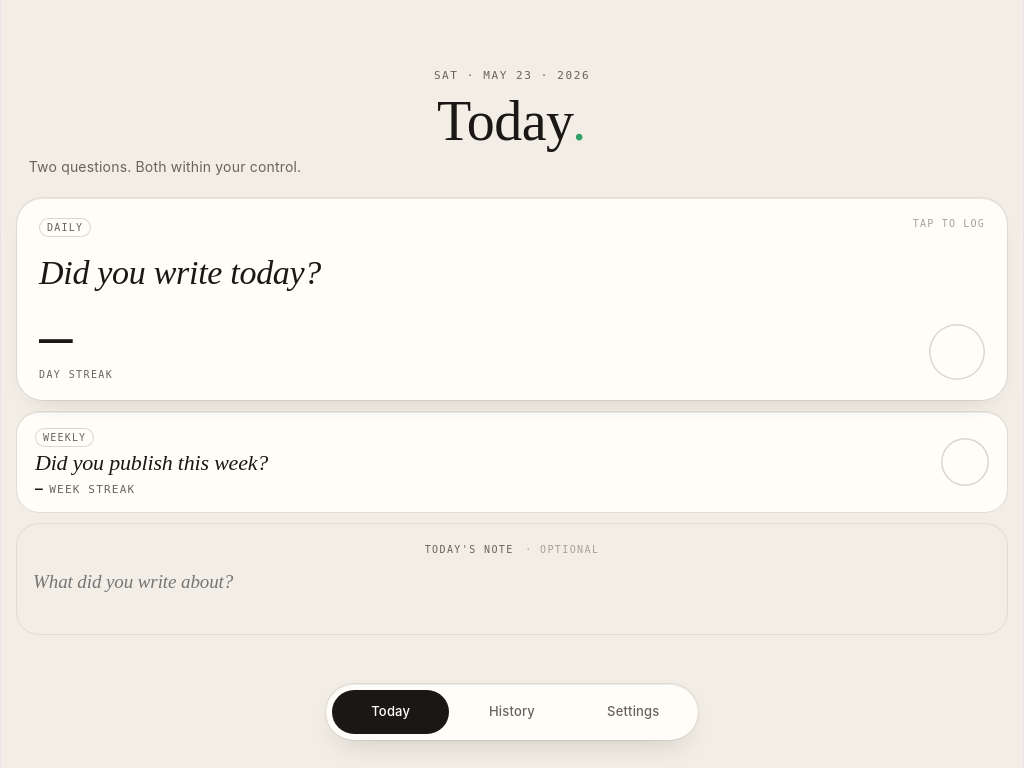
Test case: TodayScreen — optimistic toggle › reverts the toggle state and shows the error indicator on a failed PUT
Click the button with aria-label "mark as written today" at point(512, 299), box [17, 198, 1007, 400]
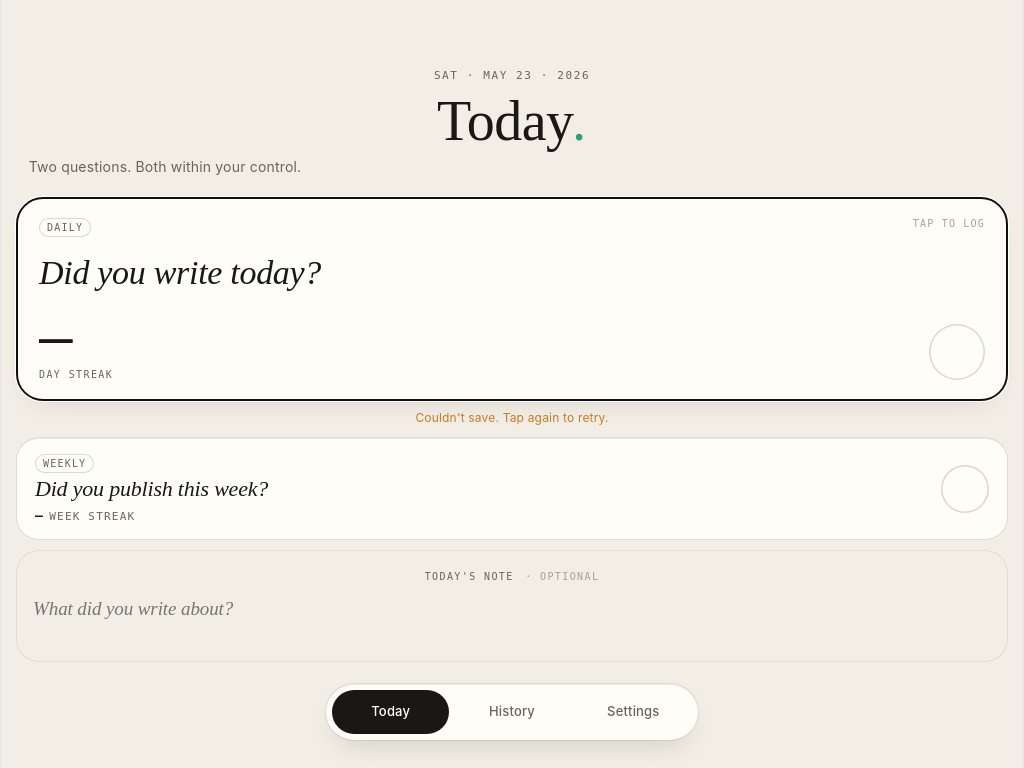
Check: the message shows "Couldn't save", box [415, 410, 609, 425]
